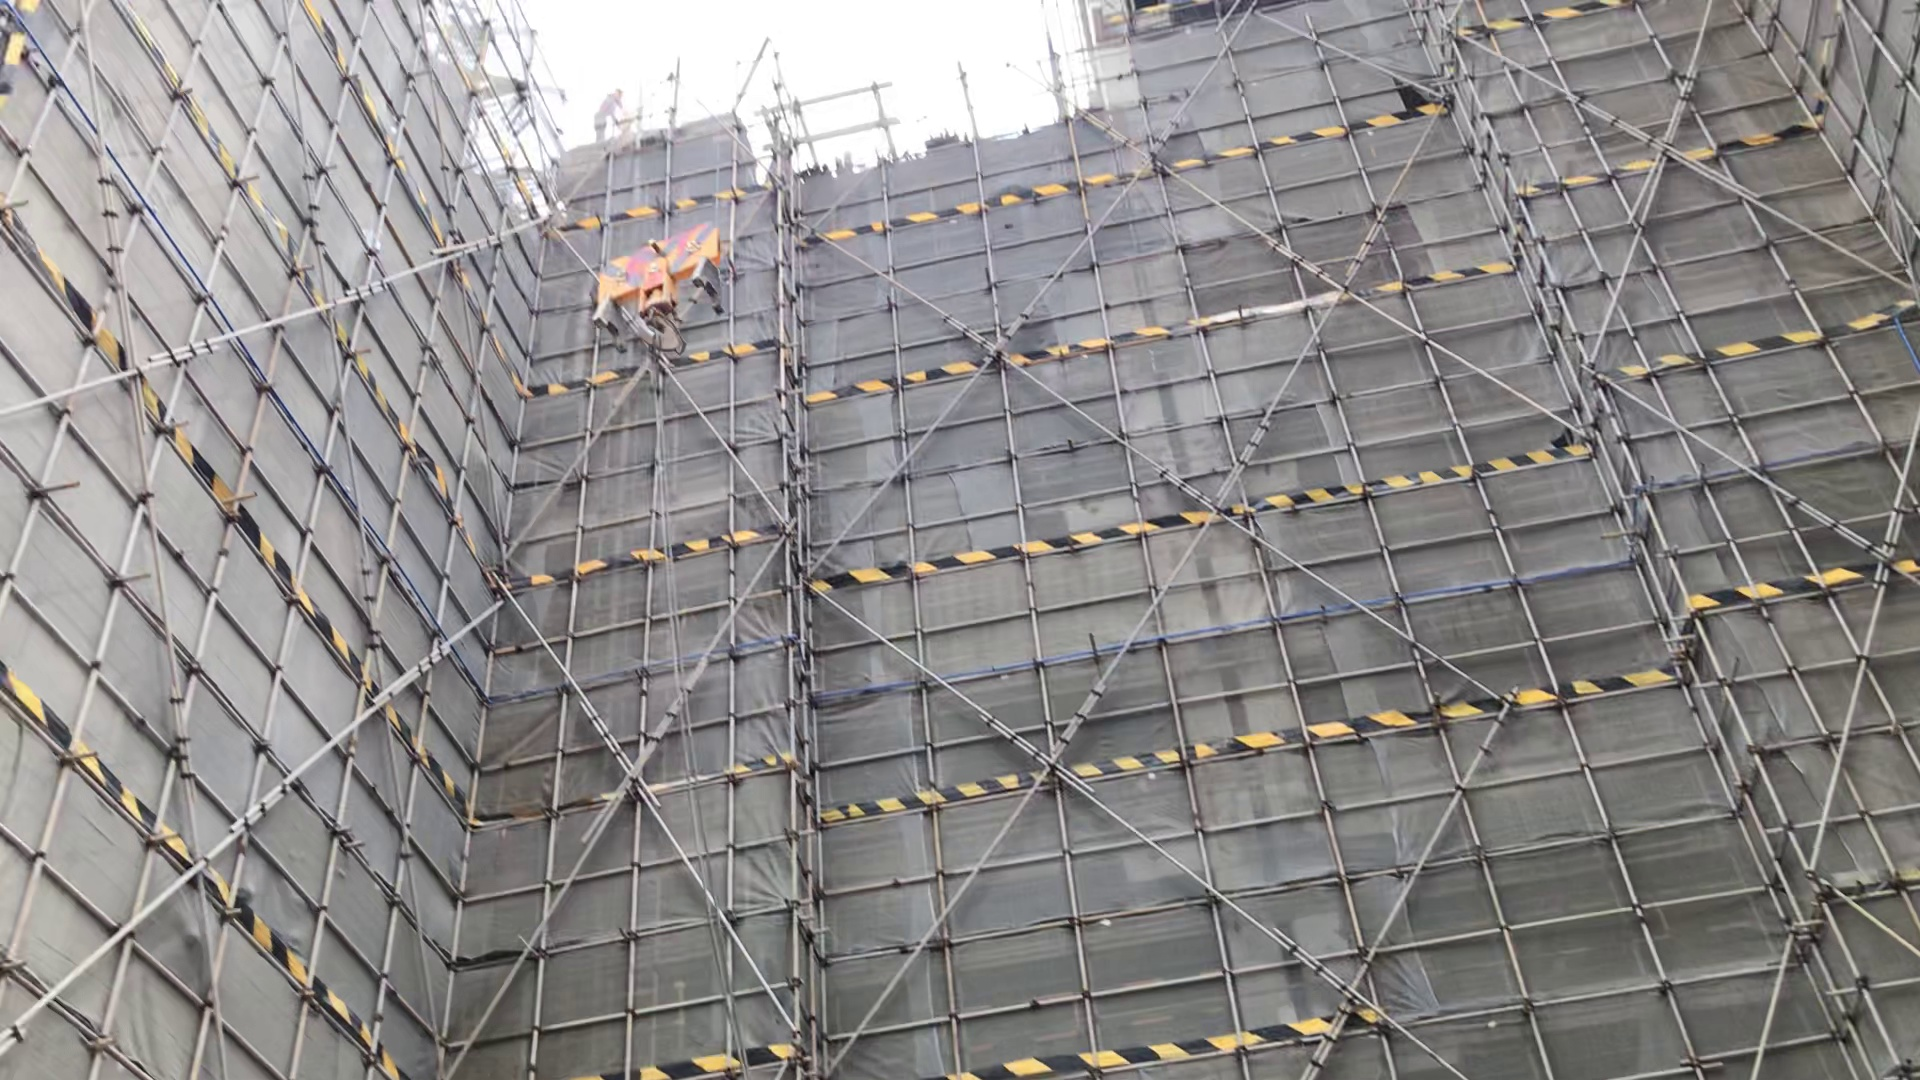hook: (583, 222, 742, 347)
